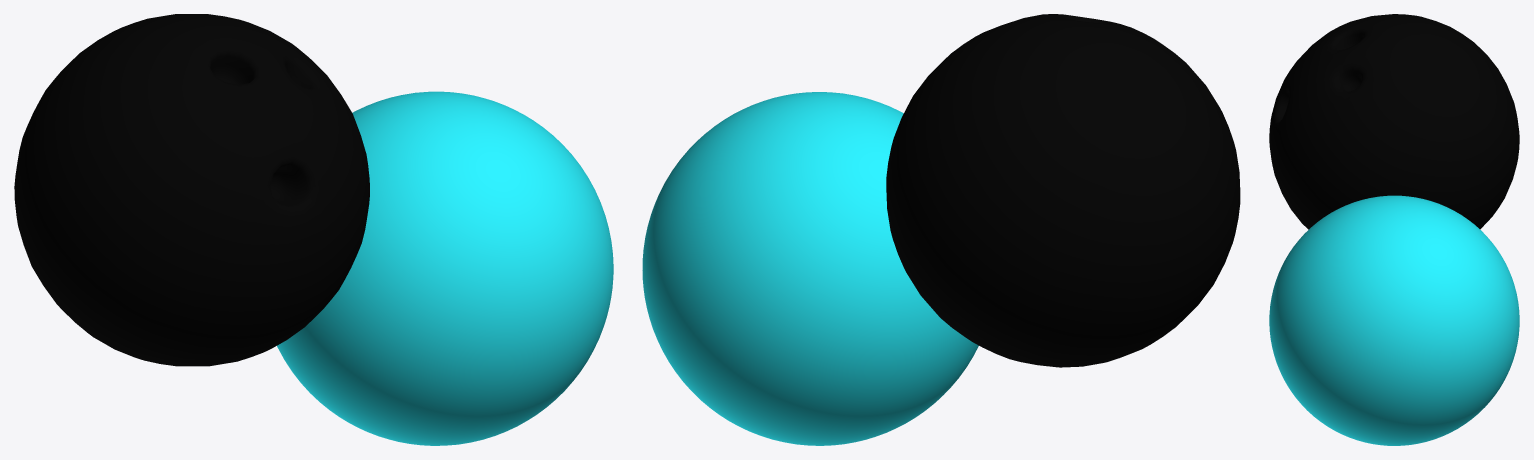
File: ball.obj
3 renders of one model, left to right at view 1: azimuth 30°, elevation 25°; view 2: azimuth 150°, elevation 25°; view 3: azimuth 270°, elevation 25°, orthographic. The views are drawn at different scales.
Visible parts, largest first — view 1: Ball_Sphere.002, Bowling_Ball_Icosphere.007; view 2: Ball_Sphere.002, Bowling_Ball_Icosphere.007; view 3: Bowling_Ball_Icosphere.007, Ball_Sphere.002.
Part boxes in pixels (bbox=[...]): Ball_Sphere.002: bbox=[14, 14, 369, 366]; Bowling_Ball_Icosphere.007: bbox=[277, 91, 613, 445]; Ball_Sphere.002: bbox=[886, 14, 1240, 367]; Bowling_Ball_Icosphere.007: bbox=[642, 92, 978, 445]; Bowling_Ball_Icosphere.007: bbox=[1269, 195, 1519, 445]; Ball_Sphere.002: bbox=[1269, 14, 1519, 229].
Bounding box in the file's own units: 3.59 × 2.86 × 2.
